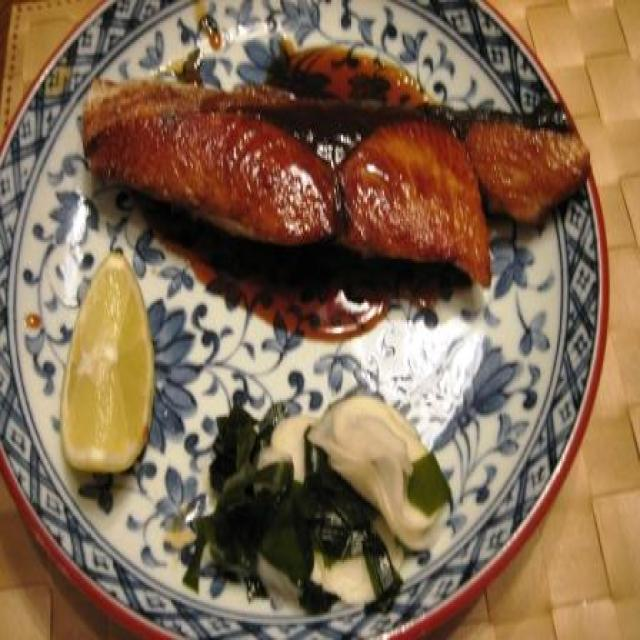熟制海鲜: (43, 53, 623, 284)
